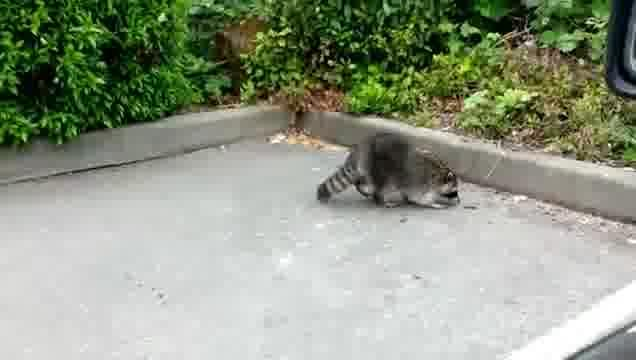raccoon: (316, 131, 463, 221)
